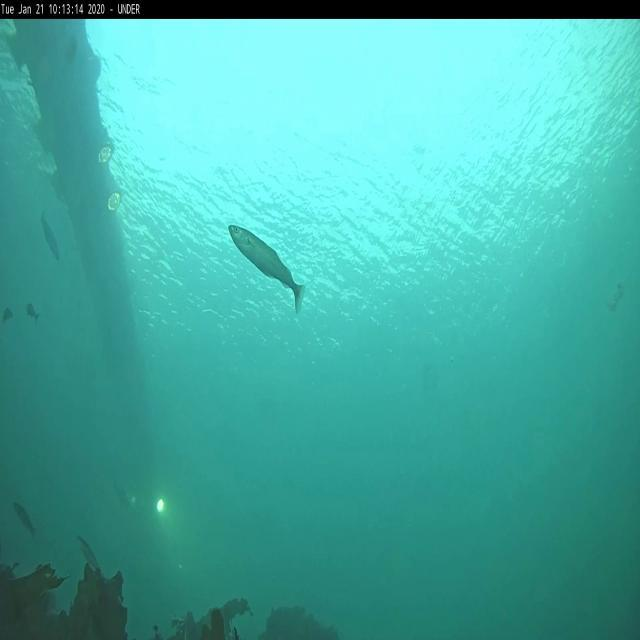fish: (229, 225, 306, 311), (38, 210, 62, 262), (10, 500, 36, 540), (26, 303, 40, 325), (3, 306, 13, 322)
